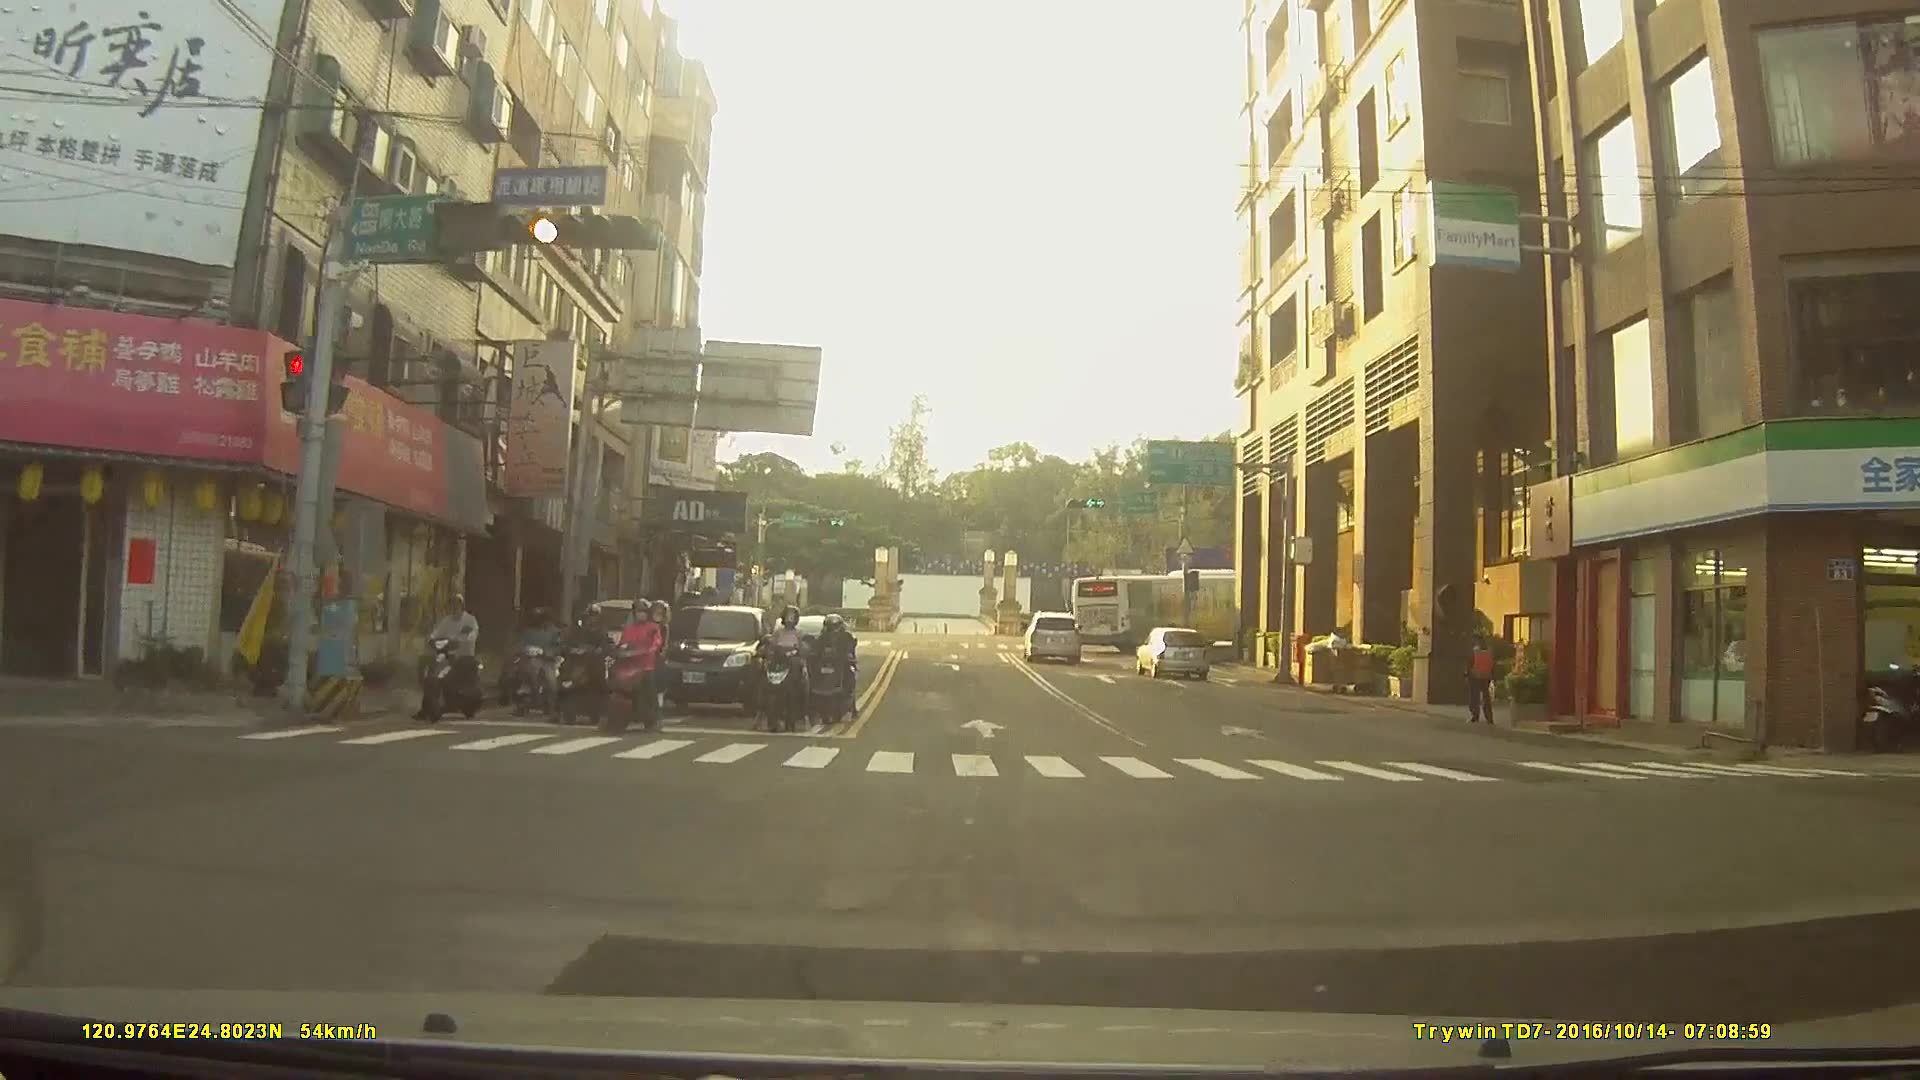pedestrian: (1464, 635, 1504, 731)
rider: (600, 596, 676, 737), (420, 594, 490, 723), (552, 602, 620, 724), (762, 610, 824, 734), (510, 603, 566, 717), (806, 618, 859, 728)
vehicle: (1072, 566, 1267, 649), (645, 602, 773, 717), (1136, 622, 1213, 676), (1023, 610, 1084, 661)
